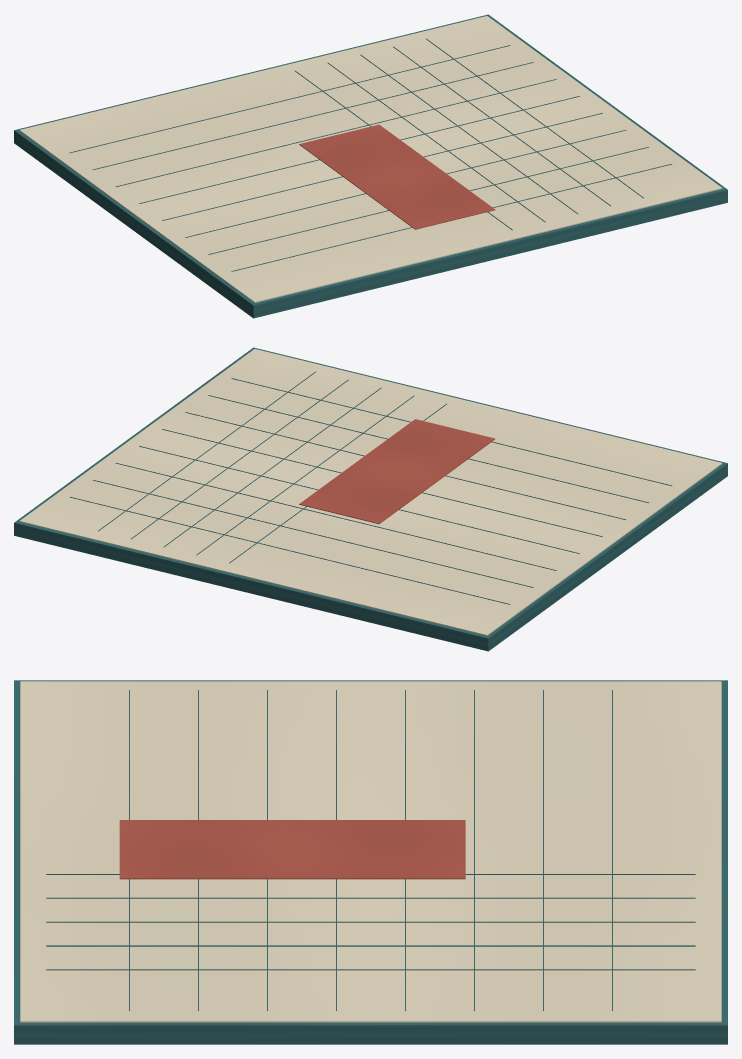
The model's file is atlas100-s035-a07.lod2.glb.
3 views of the same model, one above another, from view 1: azimuth 30°, elevation 25°; view 2: azimuth 150°, elevation 25°; view 3: azimuth 270°, elevation 25° (orthographic). The views are drawn at different scales.
Visible parts, largest first — view 1: atlas100-s035-a07:part-001, atlas100-s035-a07:part-000, atlas100-s035-a07:part-021, atlas100-s035-a07:part-013, atlas100-s035-a07:part-014, atlas100-s035-a07:part-015, atlas100-s035-a07:part-020, atlas100-s035-a07:part-018, atlas100-s035-a07:part-019, atlas100-s035-a07:part-017, atlas100-s035-a07:part-016; view 2: atlas100-s035-a07:part-001, atlas100-s035-a07:part-000, atlas100-s035-a07:part-021, atlas100-s035-a07:part-013, atlas100-s035-a07:part-014, atlas100-s035-a07:part-015, atlas100-s035-a07:part-019, atlas100-s035-a07:part-020, atlas100-s035-a07:part-016, atlas100-s035-a07:part-018, atlas100-s035-a07:part-017; view 3: atlas100-s035-a07:part-001, atlas100-s035-a07:part-000, atlas100-s035-a07:part-021, atlas100-s035-a07:part-010, atlas100-s035-a07:part-011, atlas100-s035-a07:part-012, atlas100-s035-a07:part-009.
Part boxes in pixels (x1,y1,x2,y2): atlas100-s035-a07:part-001: (19, 16, 722, 302); atlas100-s035-a07:part-000: (14, 14, 727, 318); atlas100-s035-a07:part-021: (299, 124, 495, 229); atlas100-s035-a07:part-013: (70, 45, 510, 152); atlas100-s035-a07:part-014: (93, 62, 533, 169); atlas100-s035-a07:part-015: (115, 79, 556, 186); atlas100-s035-a07:part-020: (231, 164, 671, 271); atlas100-s035-a07:part-018: (185, 130, 626, 237); atlas100-s035-a07:part-019: (208, 147, 648, 254); atlas100-s035-a07:part-017: (162, 113, 602, 220); atlas100-s035-a07:part-016: (139, 96, 579, 203); atlas100-s035-a07:part-001: (19, 349, 722, 635); atlas100-s035-a07:part-000: (14, 347, 727, 651); atlas100-s035-a07:part-021: (299, 419, 494, 523); atlas100-s035-a07:part-013: (70, 497, 510, 604); atlas100-s035-a07:part-014: (93, 480, 533, 587); atlas100-s035-a07:part-015: (115, 463, 556, 570); atlas100-s035-a07:part-019: (208, 395, 648, 502); atlas100-s035-a07:part-020: (231, 378, 671, 485); atlas100-s035-a07:part-016: (139, 446, 579, 553); atlas100-s035-a07:part-018: (185, 412, 626, 519); atlas100-s035-a07:part-017: (162, 429, 602, 536); atlas100-s035-a07:part-001: (20, 681, 721, 1022); atlas100-s035-a07:part-000: (14, 680, 727, 1044); atlas100-s035-a07:part-021: (119, 820, 465, 879); atlas100-s035-a07:part-010: (46, 921, 695, 922); atlas100-s035-a07:part-011: (46, 945, 695, 946); atlas100-s035-a07:part-012: (46, 969, 695, 970); atlas100-s035-a07:part-009: (46, 897, 695, 898).
Bounding box in the file's own units: 13.02 × 0.404 × 11.39.
Materials: 3 (3 with a texture image).
